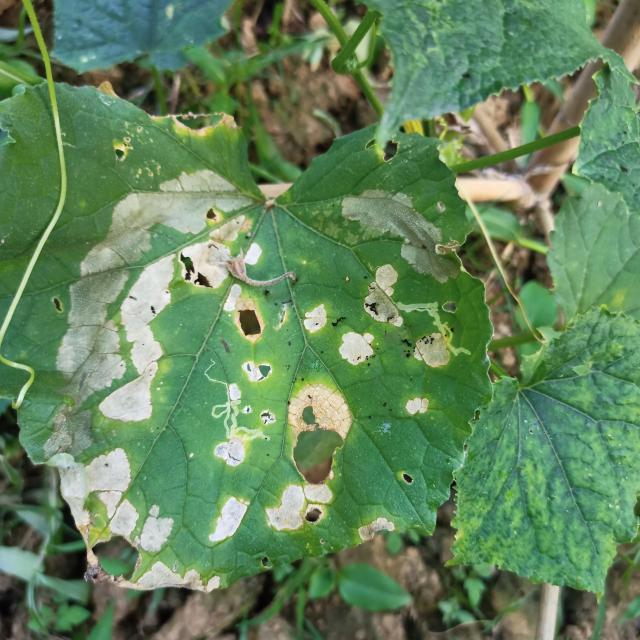disease_cucumber: (47, 407, 404, 592), (55, 162, 286, 424), (288, 186, 477, 423)
